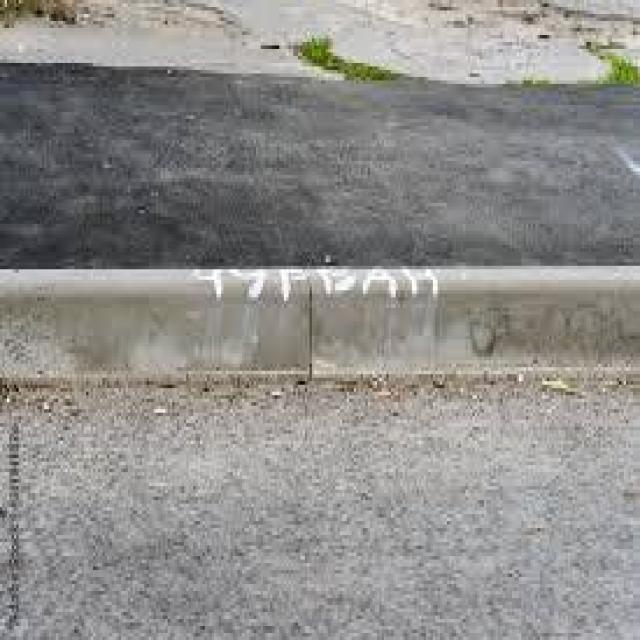curb: (1, 259, 640, 389)
